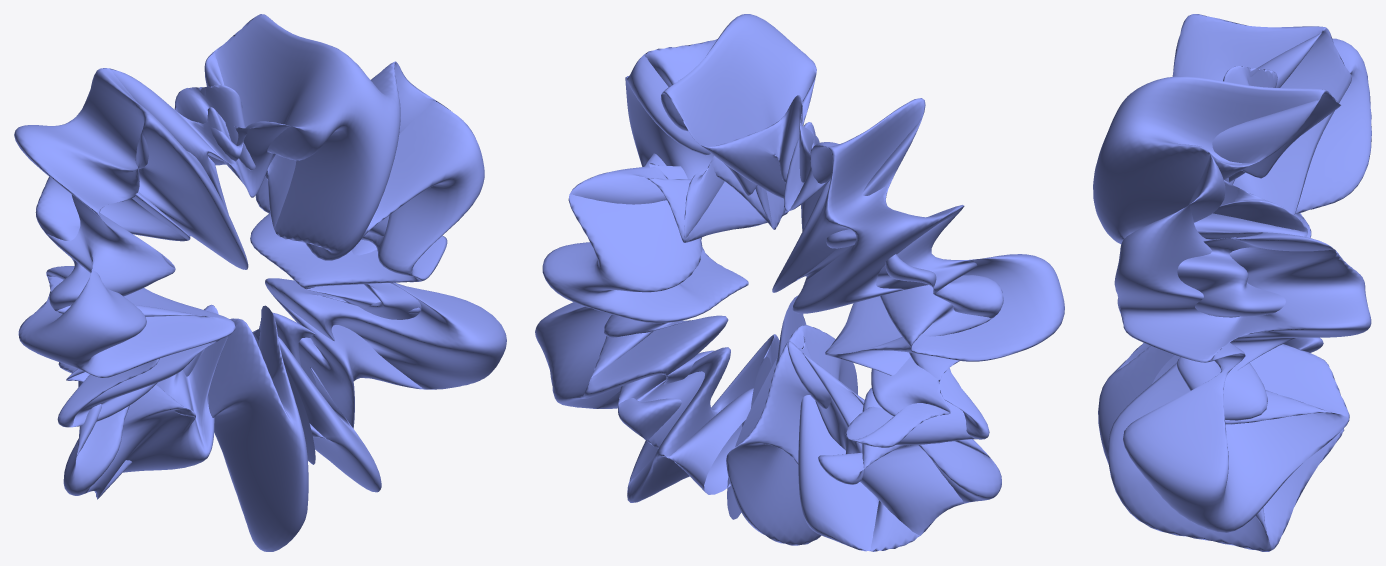
The model's file is form_9.glb.
3 views of the same model, side by side, from view 1: azimuth 30°, elevation 25°; view 2: azimuth 150°, elevation 25°; view 3: azimuth 270°, elevation 25° (orthographic). The views are drawn at different scales.
Visible parts, largest first — view 1: Cube; view 2: Cube; view 3: Cube.
Boxes of the visible parts, x1,y1,x2,y2 form: Cube: (14,14,506,551); Cube: (535,14,1064,551); Cube: (1093,14,1371,551).
Bounding box in the file's own units: 25.95 × 24.68 × 12.89.
